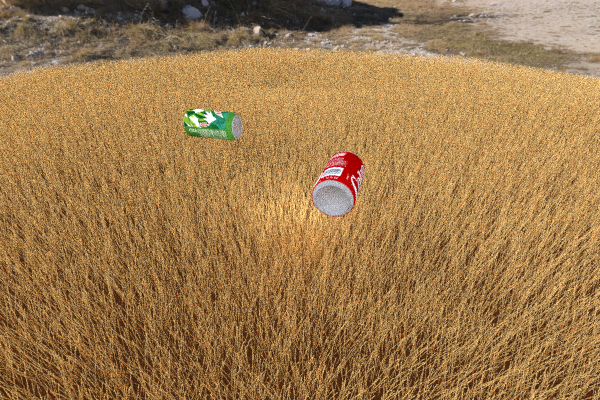bottle: (267, 79, 358, 126)
can: (311, 151, 364, 217), (183, 108, 242, 140)
